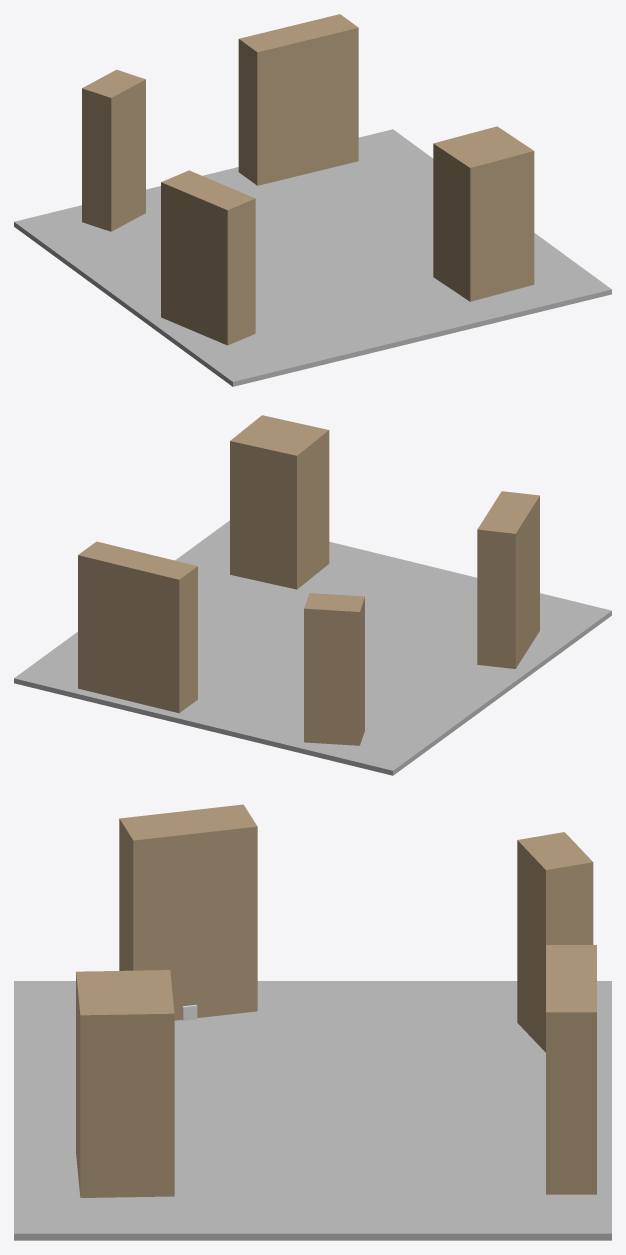
The picture shows the model from 3 angles, top to bottom: view 1: azimuth 30°, elevation 25°; view 2: azimuth 150°, elevation 25°; view 3: azimuth 270°, elevation 25°; orthographic projection. The views are drawn at different scales.
Visible parts, largest first — view 1: Ground, Building 1, Building 4, Building 2, Building 3; view 2: Ground, Building 1, Building 4, Building 2, Building 3; view 3: Ground, Building 2, Building 4, Building 1, Building 3.
Part boxes in pixels (left/top/right/bottom): Ground: left=14, top=129, right=611, bottom=386; Building 1: left=238, top=14, right=358, bottom=185; Building 4: left=433, top=126, right=534, bottom=301; Building 2: left=161, top=170, right=255, bottom=345; Building 3: left=82, top=69, right=145, bottom=231; Ground: left=14, top=520, right=611, bottom=775; Building 1: left=78, top=541, right=197, bottom=713; Building 4: left=230, top=415, right=329, bottom=589; Building 2: left=477, top=491, right=539, bottom=668; Building 3: left=304, top=593, right=364, bottom=745; Ground: left=14, top=981, right=611, bottom=1240; Building 2: left=119, top=804, right=257, bottom=1020; Building 4: left=76, top=970, right=174, bottom=1197; Building 1: left=546, top=945, right=596, bottom=1194; Building 3: left=517, top=832, right=593, bottom=1052.
Bounding box in the file's own units: 80 × 28.28 × 80.
